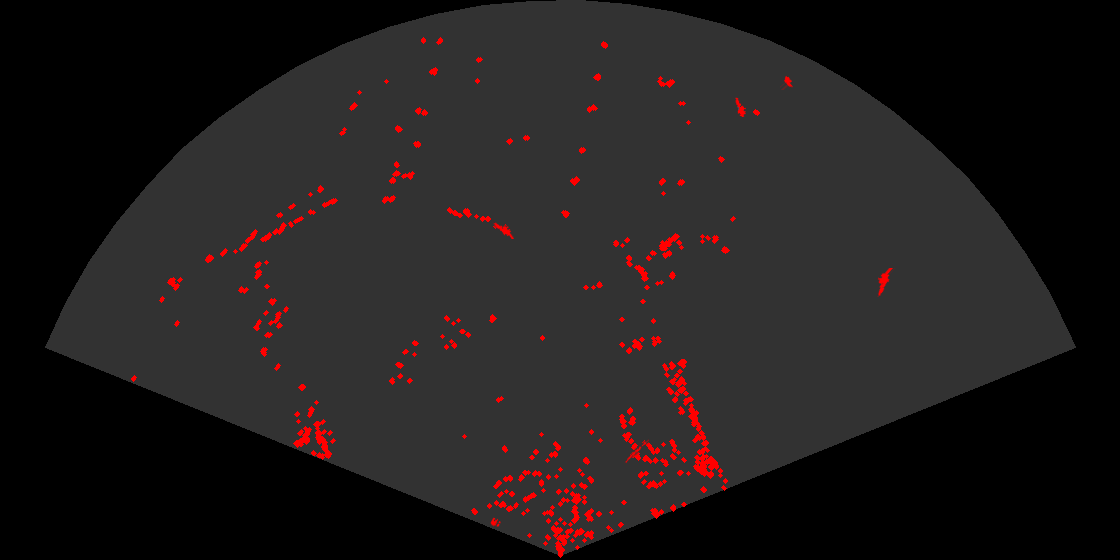AUV: (780, 74, 794, 90)
ball: (489, 516, 502, 529)
chain: (622, 438, 649, 464)
frogman: (876, 268, 896, 297), (492, 220, 514, 239), (734, 97, 747, 117)
